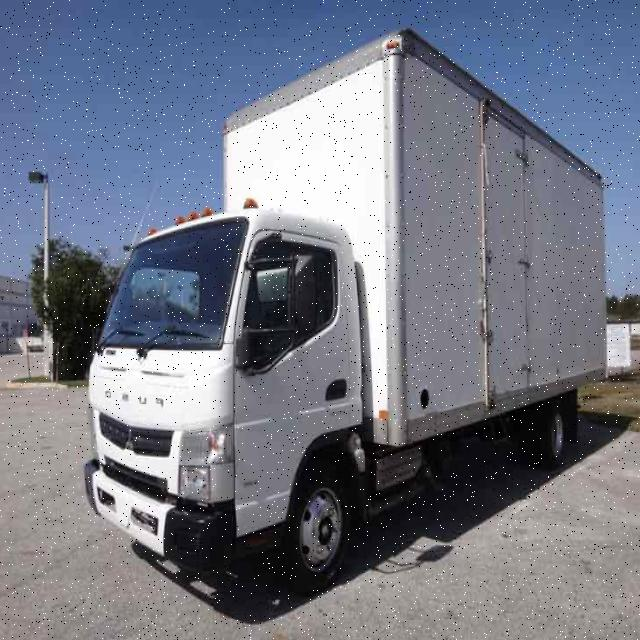truck: (85, 27, 608, 586)
